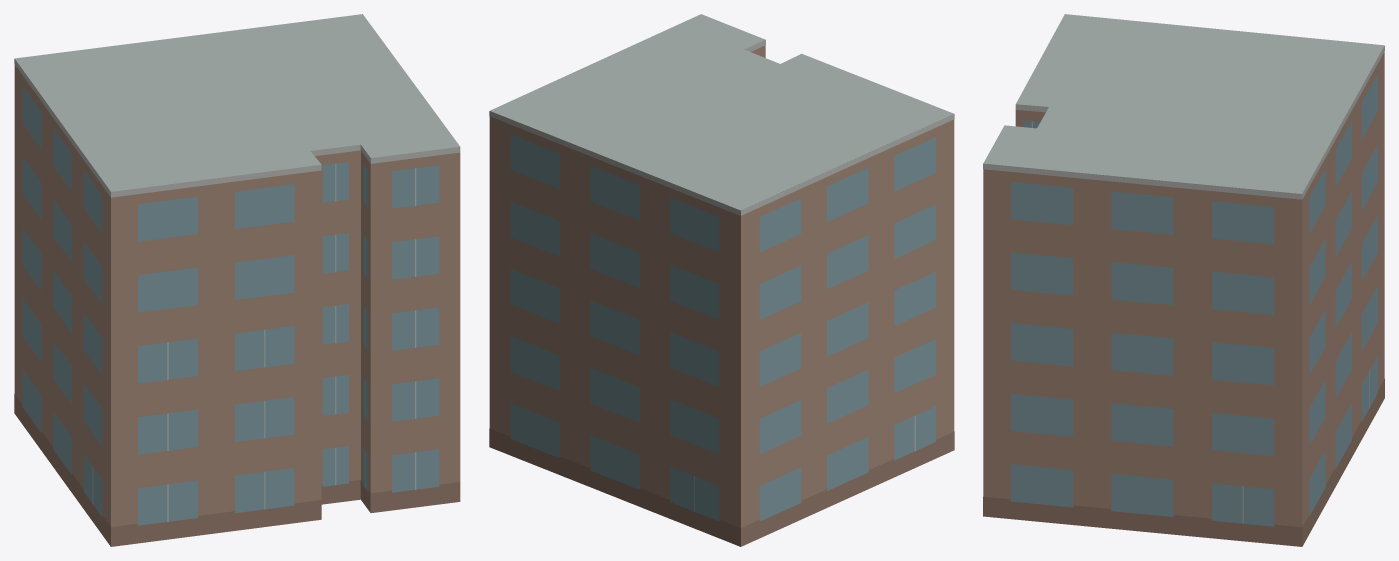
File: survey-upis-32987763.glb
3 views of the same model, side by side, from view 1: azimuth 30°, elevation 25°; view 2: azimuth 150°, elevation 25°; view 3: azimuth 270°, elevation 25° (orthographic). The views are drawn at different scales.
Parts seen in each view (by area): view 1: survey-upis-32987763.tmp; view 2: survey-upis-32987763.tmp; view 3: survey-upis-32987763.tmp.
Part boxes in pixels (x1=…): survey-upis-32987763.tmp: x1=14, y1=14, x2=460, y2=546; survey-upis-32987763.tmp: x1=489, y1=14, x2=954, y2=546; survey-upis-32987763.tmp: x1=983, y1=14, x2=1384, y2=546.
Bounding box in the file's own units: 16.7 × 15.25 × 15.75.
